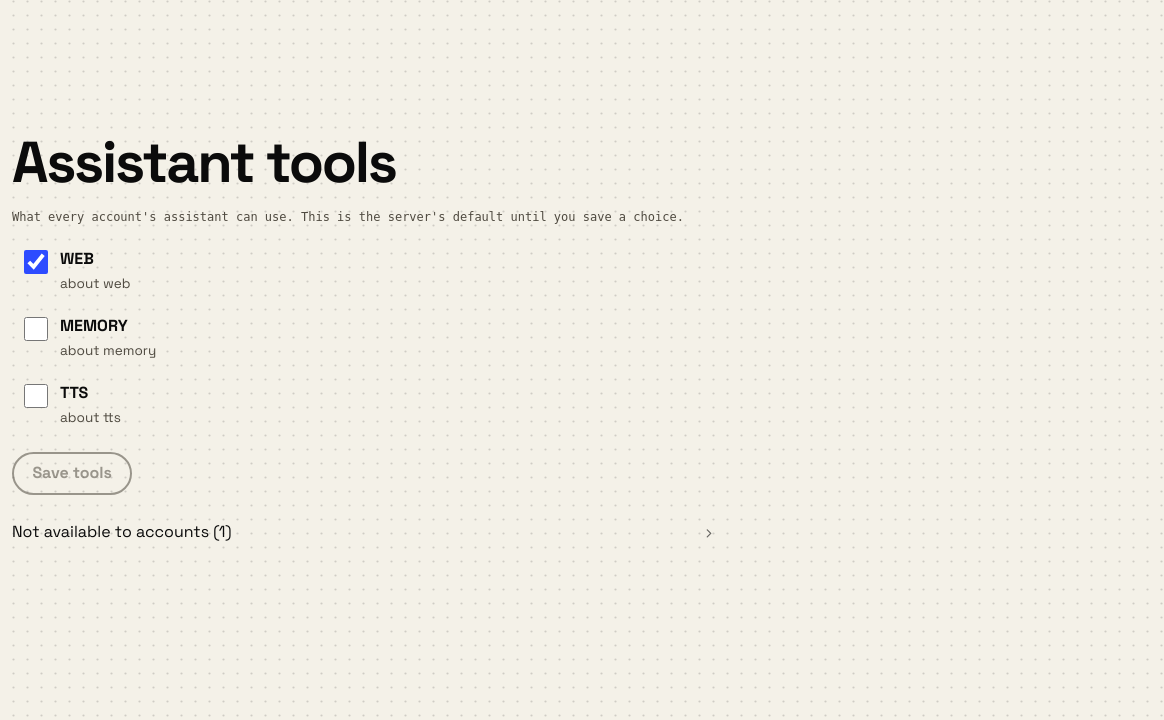
Test case: Admin → Assistant tools › will not save an empty set, and shows a refused save as an error
What coordinates should you click on to do the following:
click the checkbox labelled "WEB about web"
I would click on:
 (36, 262)
Its box is [24, 250, 48, 274].
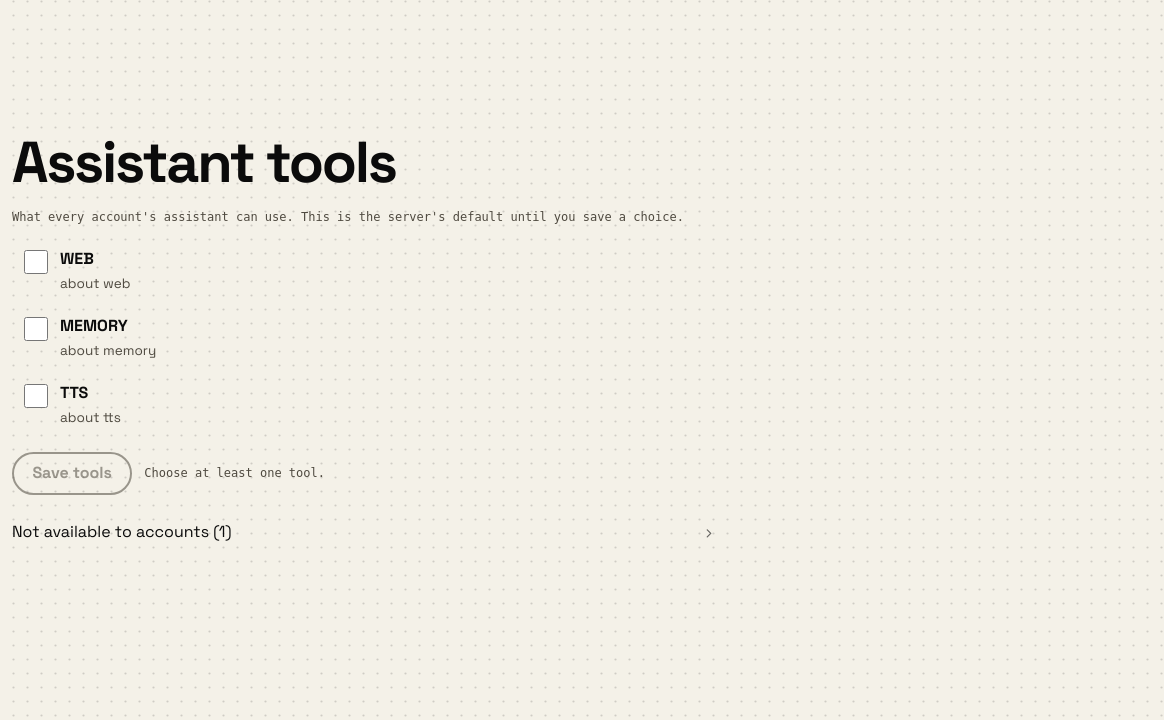
Expected: the button "Save tools" is disabled, [12, 452, 132, 495]
Expected: the message reads "Choose at least one tool.", [144, 466, 325, 480]
What coordinates should you click on to do the following:
click the checkbox labelled "MEMORY about memory"
I would click on:
 (36, 329)
Its box is [24, 317, 48, 341].
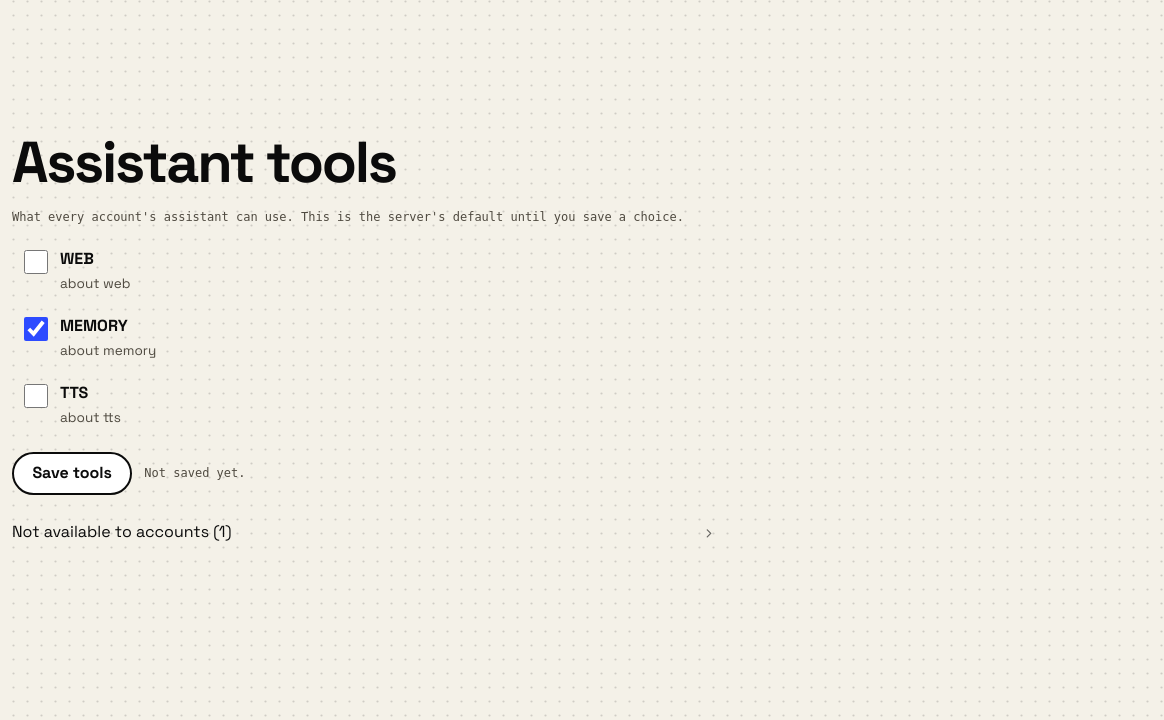
What coordinates should you click on to do the following:
click the button "Save tools"
I would click on:
 (72, 473)
Its box is [12, 452, 132, 495].
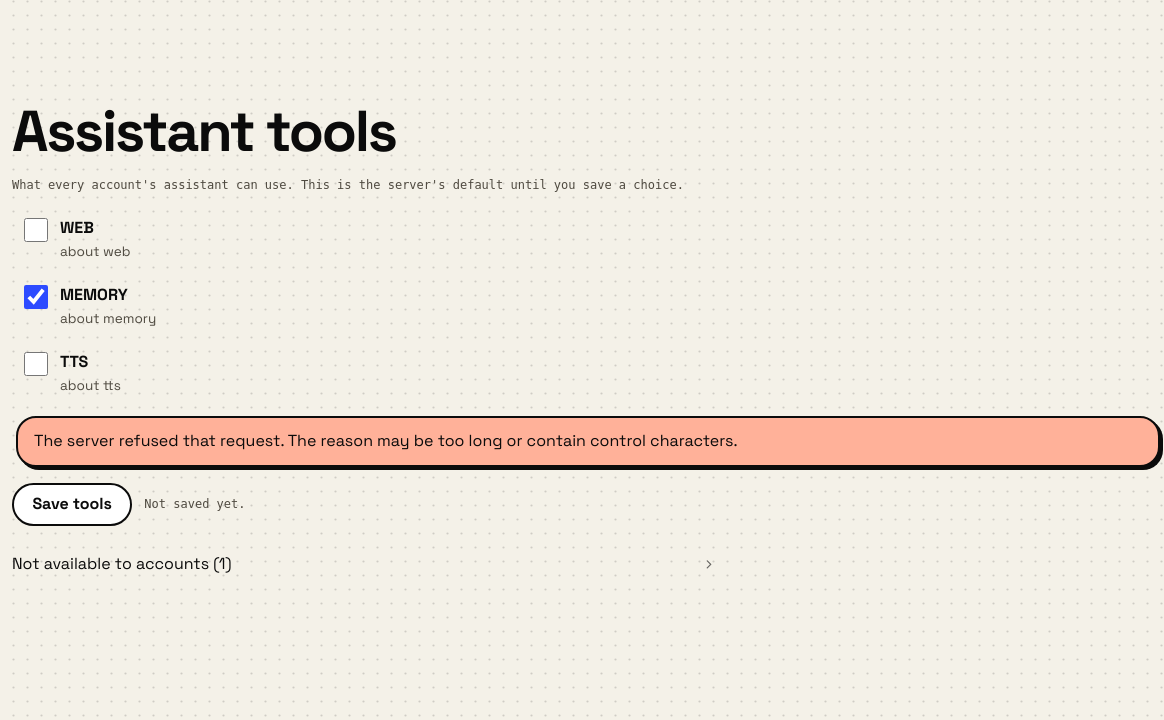
Expected: the 1st message is shown, [16, 416, 1160, 467]
